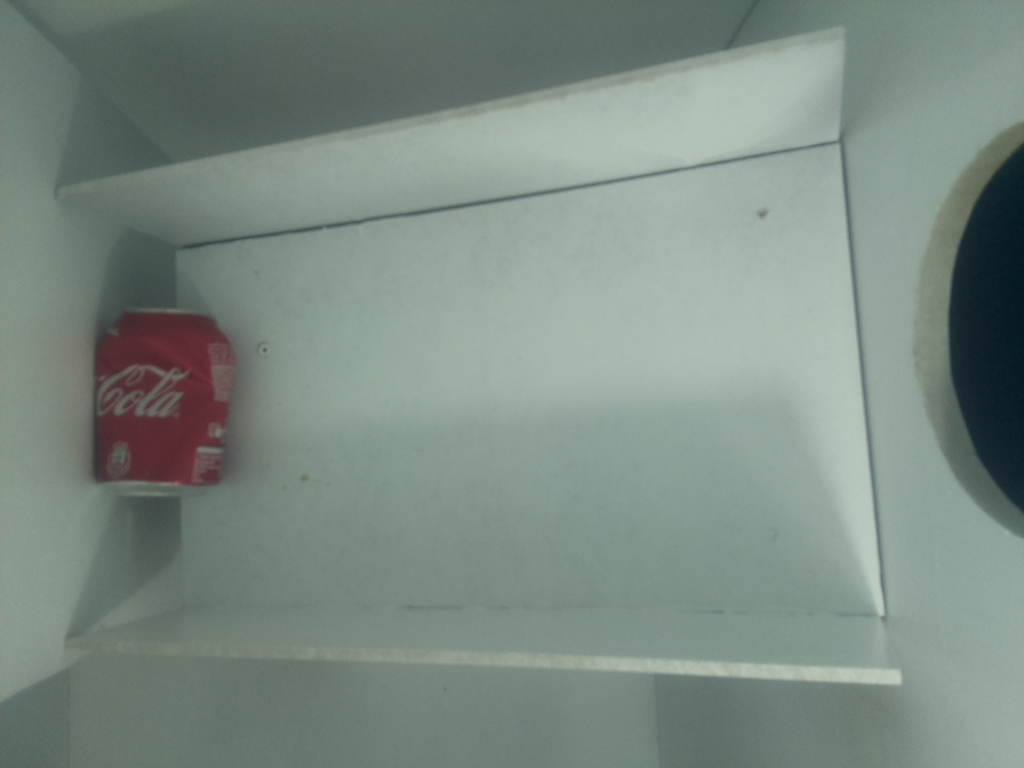kaleng: (93, 306, 236, 494)
